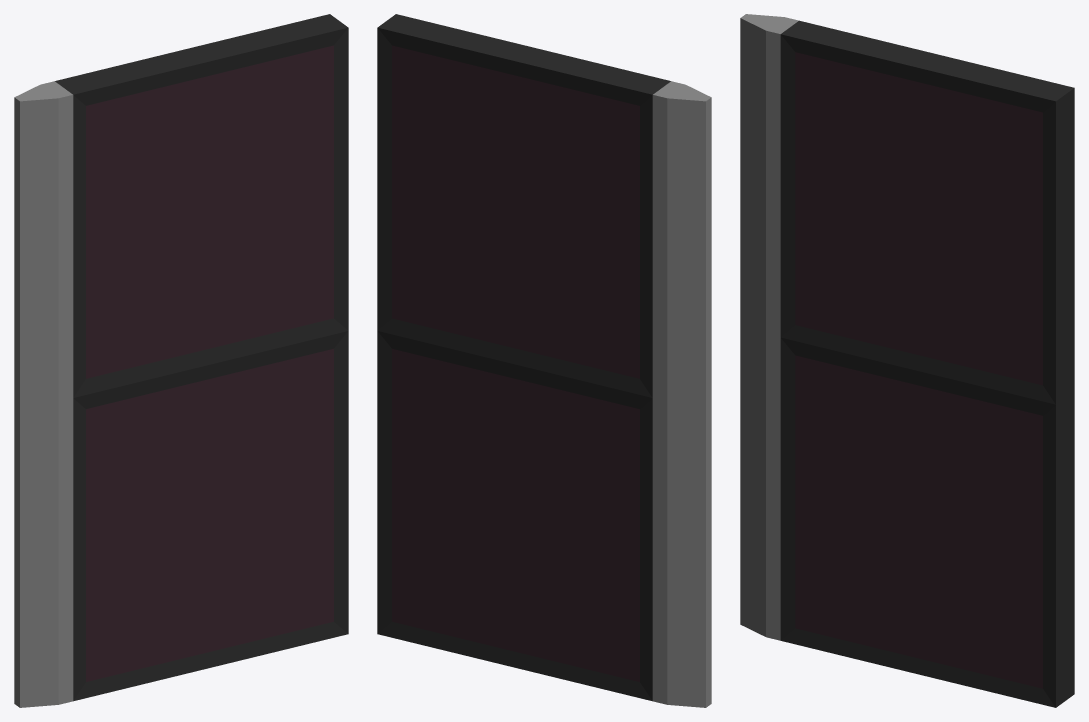
File: Door.fbx
3 views of the same model, side by side, from view 1: azimuth 30°, elevation 25°; view 2: azimuth 150°, elevation 25°; view 3: azimuth 330°, elevation 25° (orthographic).
Visible parts, largest first — view 1: Door; view 2: Door; view 3: Door.
Boxes of the visible parts, x1,y1,x2,y2 form: Door: [14, 14, 348, 707]; Door: [377, 14, 711, 707]; Door: [740, 14, 1074, 707].
Size of the model in its own units: 1000 by 1800 by 100.
